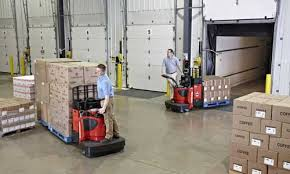Pallet Jack: (38, 82, 126, 159), (158, 58, 232, 113)
